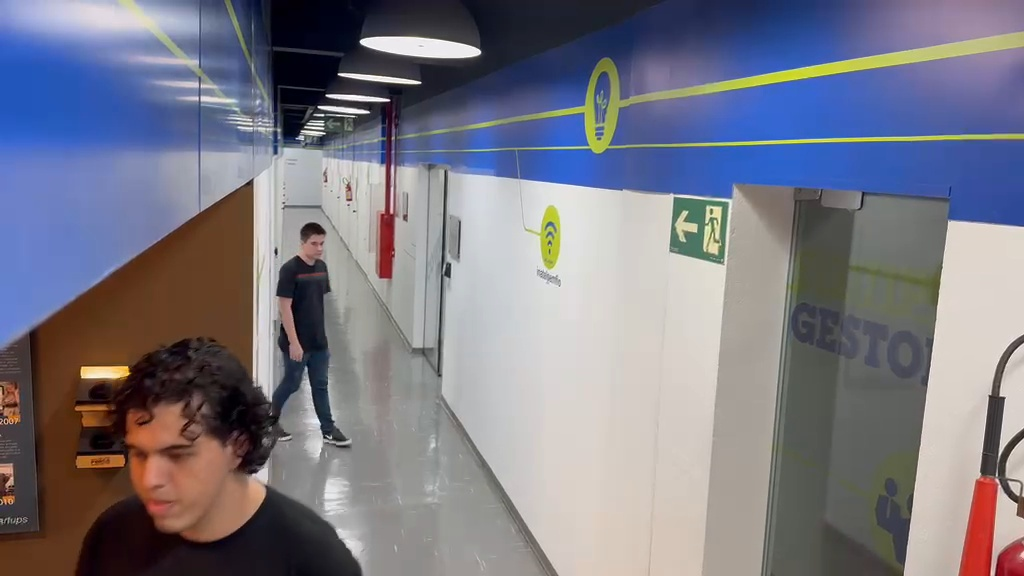person: (73, 337, 361, 571), (272, 220, 352, 449)
